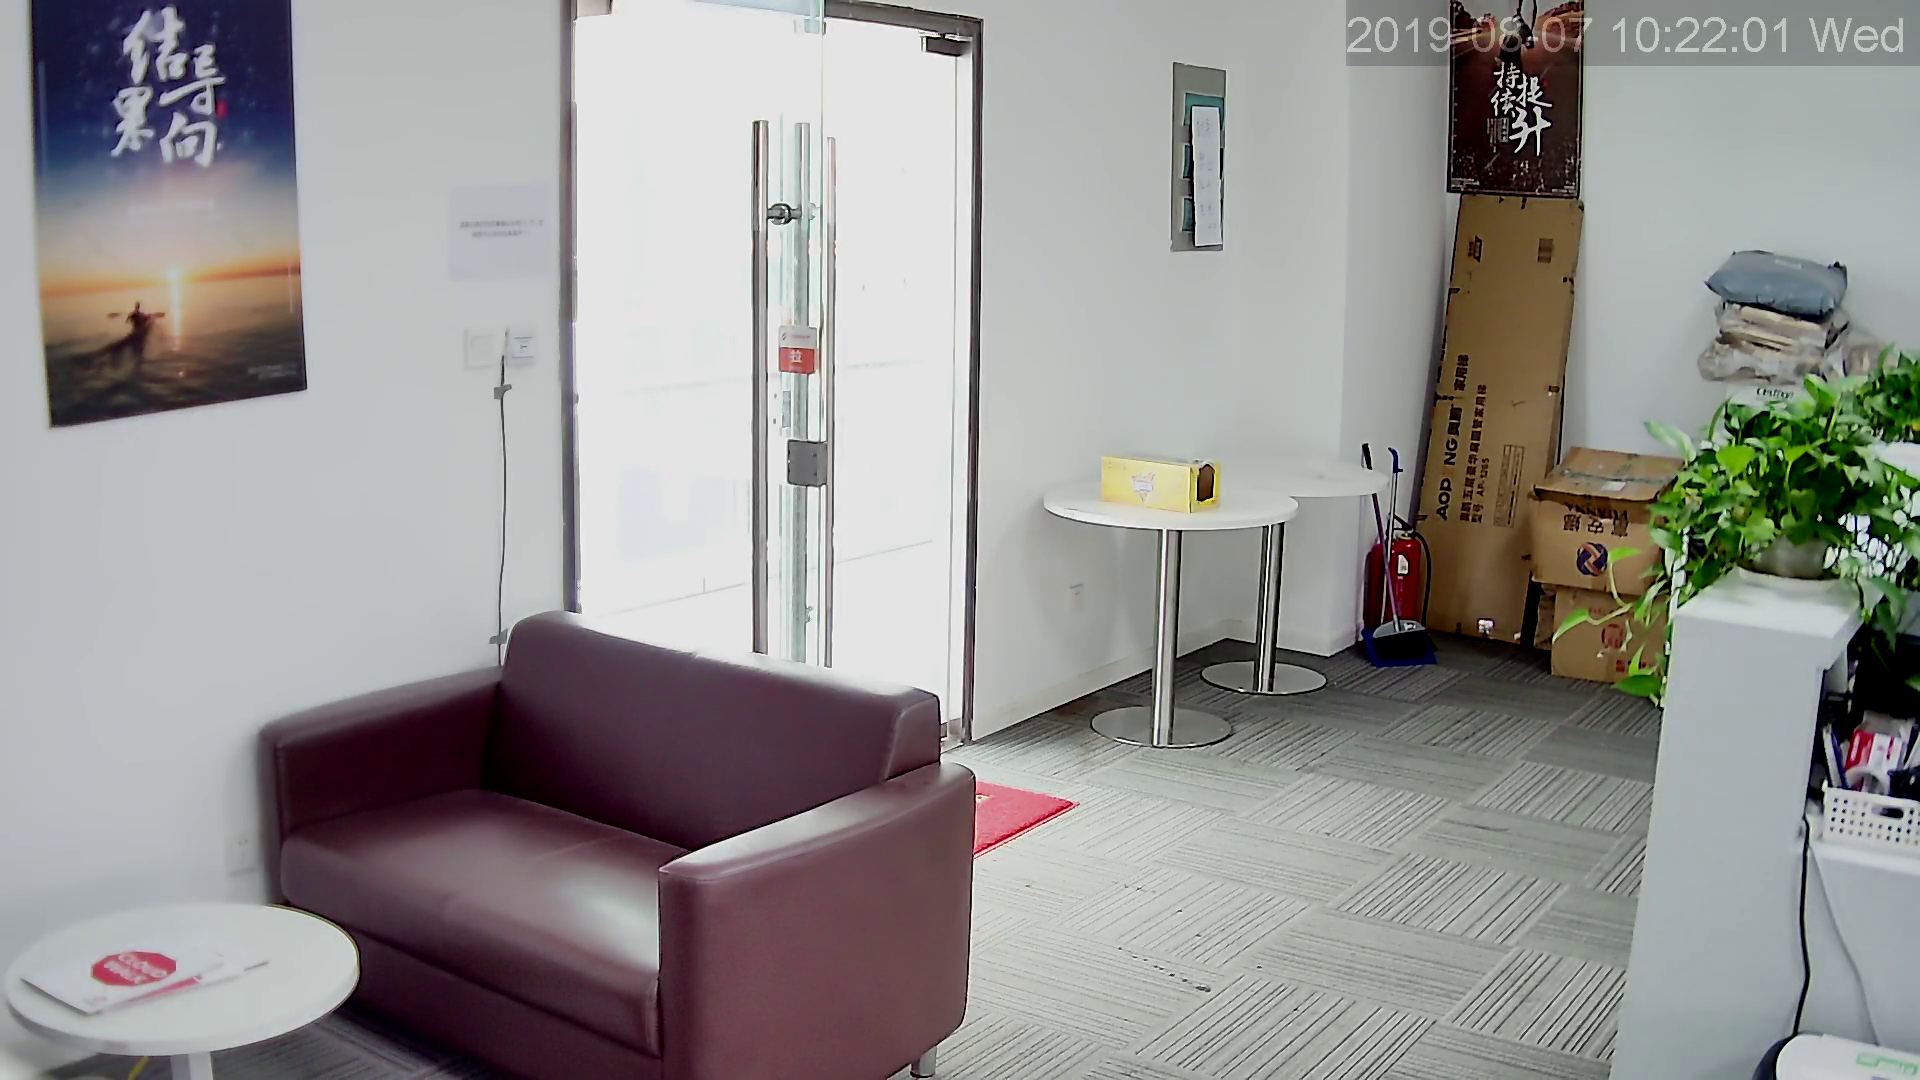bill: (32, 1, 316, 434), (1447, 8, 1581, 196)
